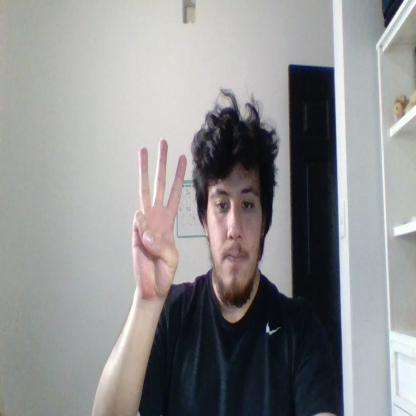W: (132, 138, 186, 298)
